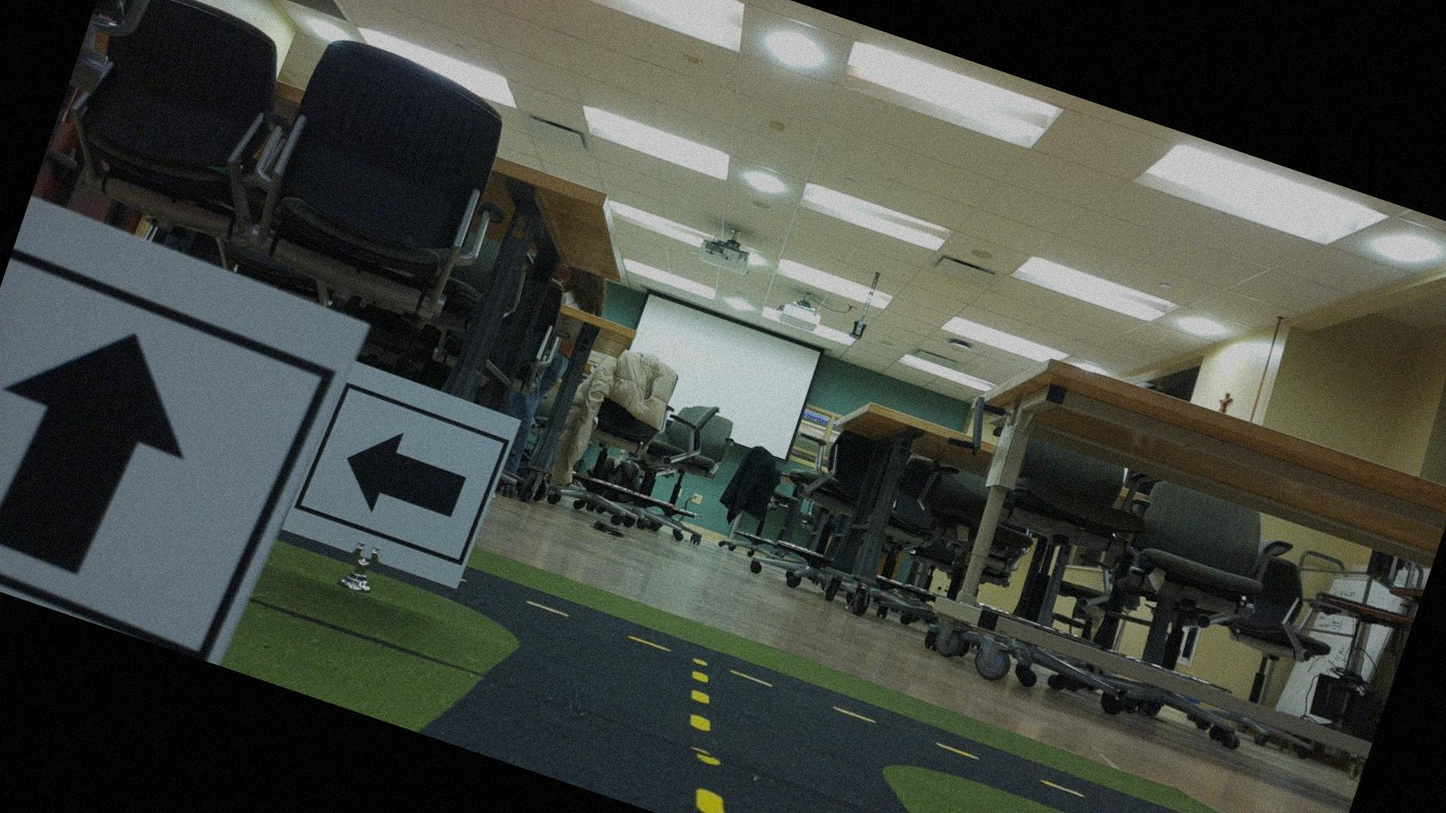gostraight: (0, 207, 343, 667)
turnleft: (293, 367, 513, 592)
yellowline: (651, 670, 761, 812)
